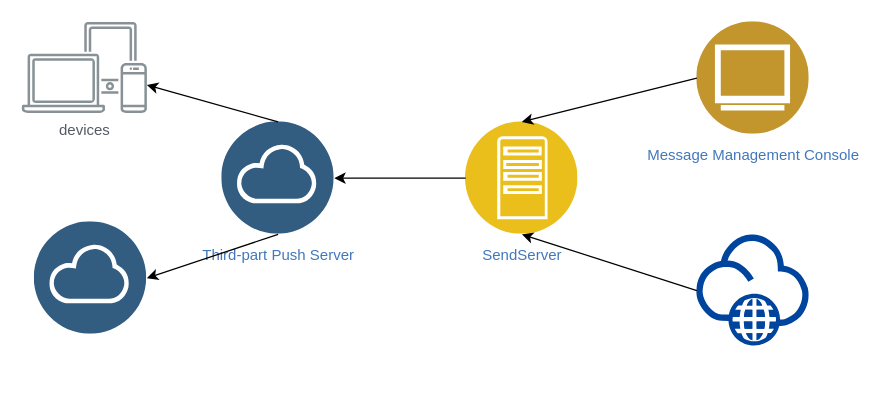
Some shapes in this 880 by 398 pixel diagram are drawn without their labels. The shapes that lost their labels are listed below. From the top down, each one's box as (x1, y1, x2, y2) in pixels, then its label:
(34, 221, 146, 334): AnotherPushServer
(696, 234, 809, 346): Other System
